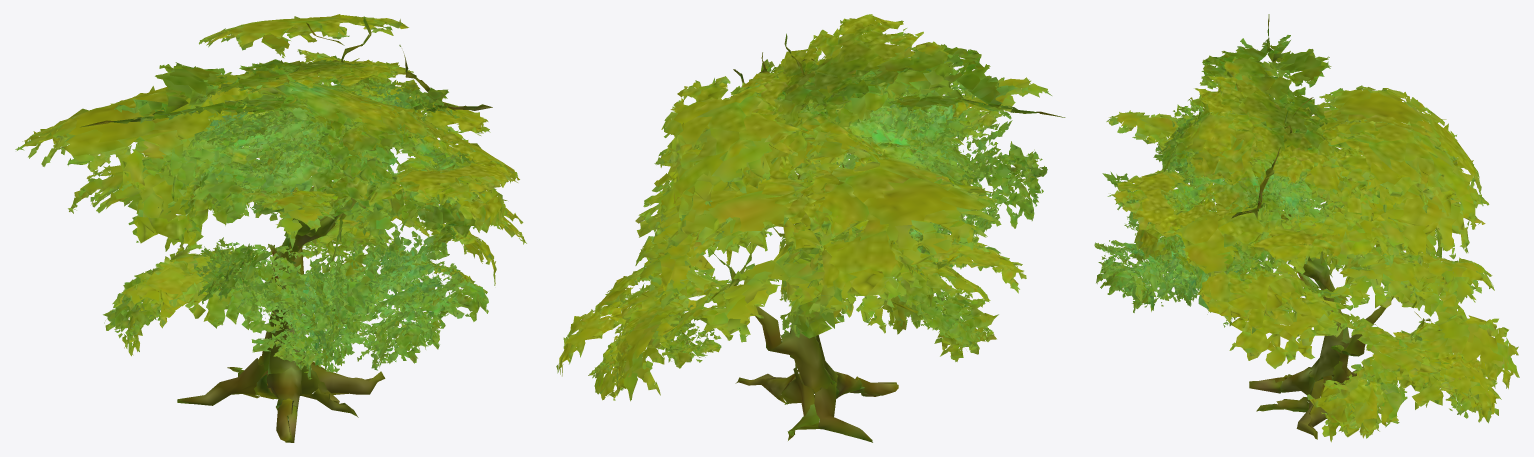
The model's file is foresttree.glb.
3 views of the same model, side by side, from view 1: azimuth 30°, elevation 25°; view 2: azimuth 150°, elevation 25°; view 3: azimuth 270°, elevation 25° (orthographic). The views are drawn at different scales.
Visible parts, largest first — view 1: Mesh_0; view 2: Mesh_0; view 3: Mesh_0.
Part boxes in pixels (x1=…): Mesh_0: x1=15, y1=14, x2=526, y2=442; Mesh_0: x1=556, y1=14, x2=1065, y2=442; Mesh_0: x1=1094, y1=14, x2=1519, y2=442.
Size of the model in its own units: 1.9 by 1.53 by 1.84.
1 material, 1 textured.
